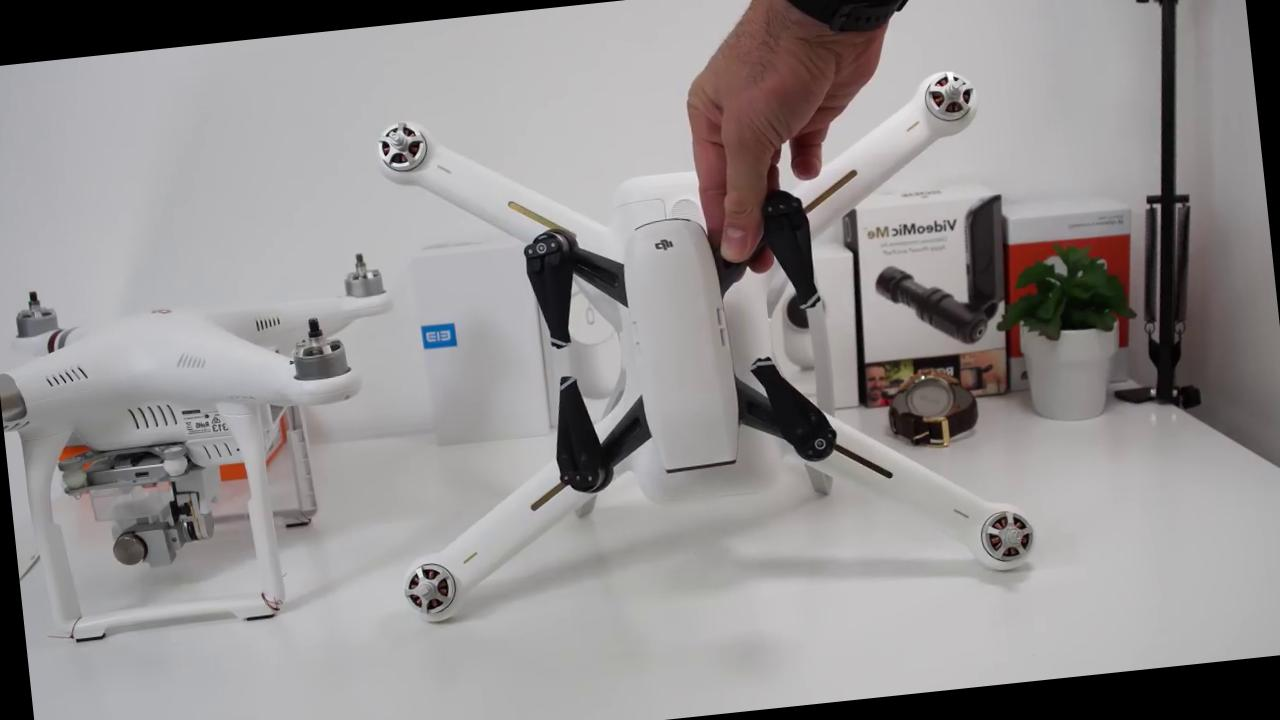drone: (334, 51, 1043, 639), (0, 234, 398, 446)
